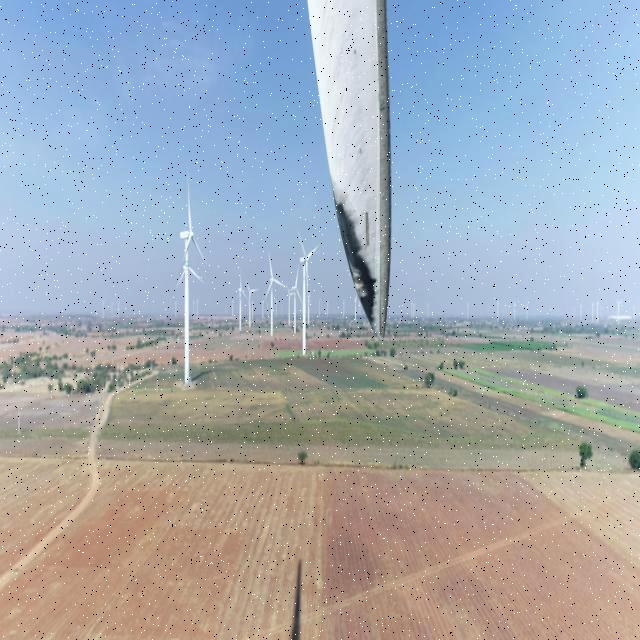Dirt: (302, 0, 391, 339)
Oil LEAKAGE: (336, 203, 375, 324)
Pin Hole: (355, 272, 379, 290), (376, 99, 390, 119), (350, 44, 362, 59), (354, 144, 366, 157)
